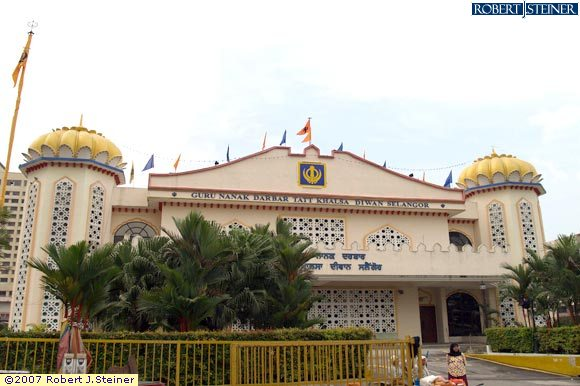Gurdwara: (6, 80, 547, 365)
